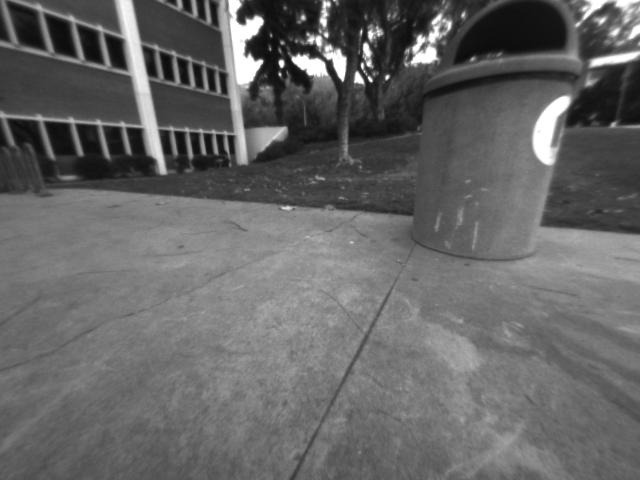trashcan: (403, 1, 600, 276)
